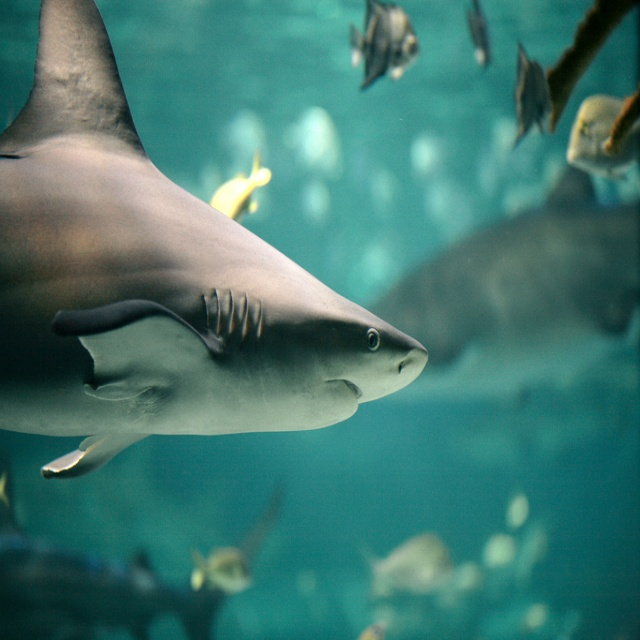Shark: (2, 0, 426, 479)
